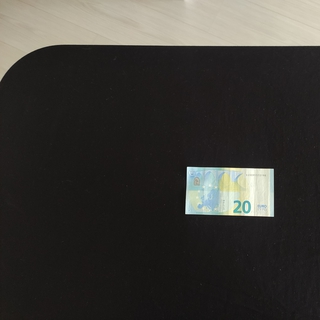20EUROBack: (185, 166, 274, 217)
